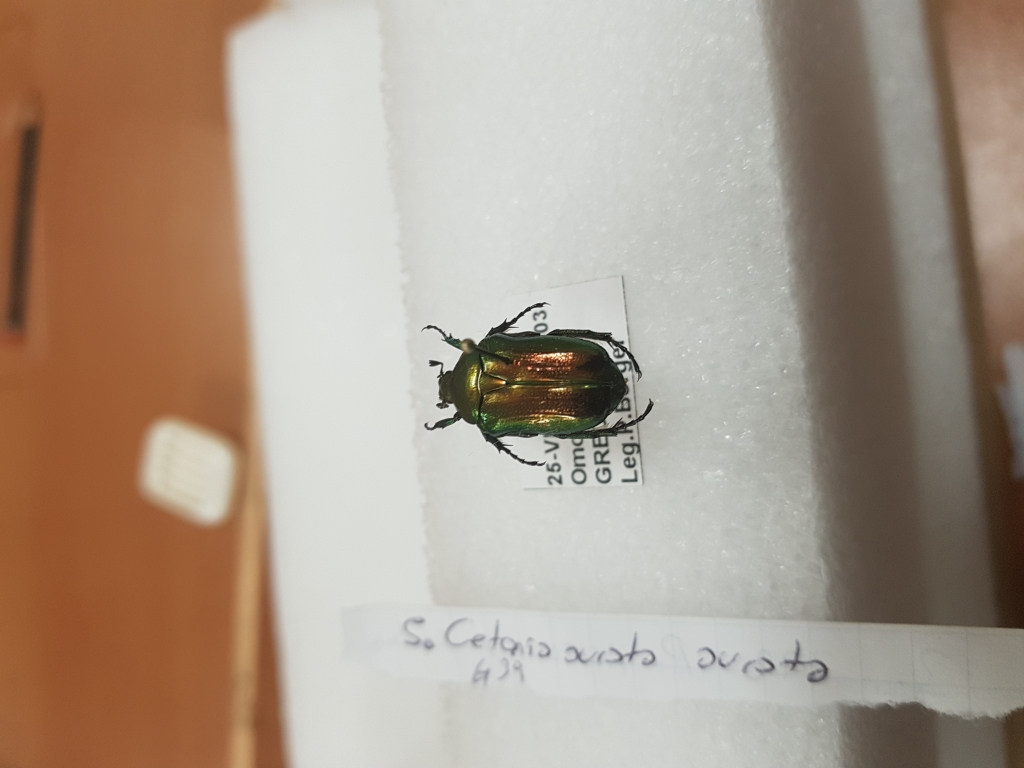Cetonia_aurata: (420, 298, 658, 472)
